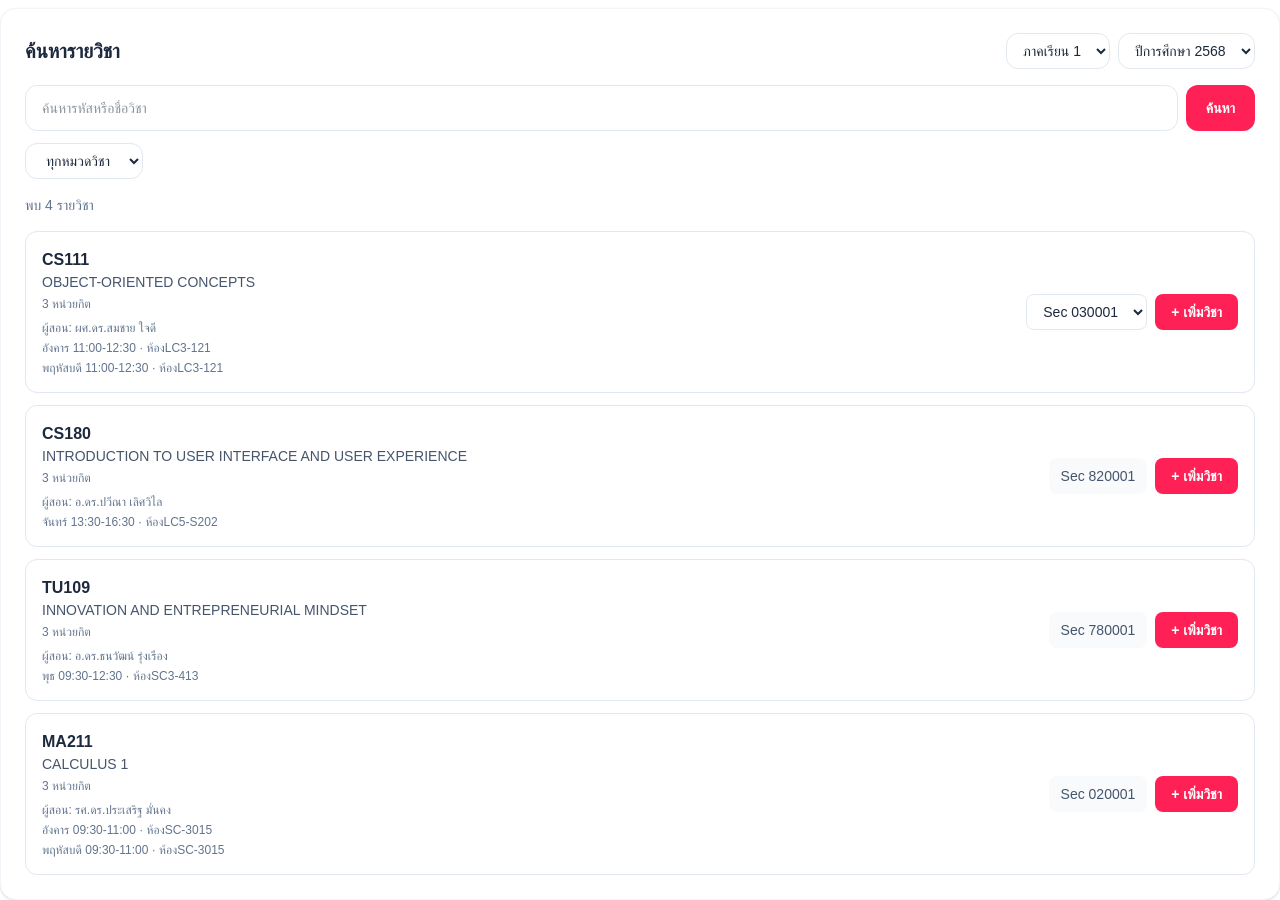
Test case: US1-T10 หน้าตารางเรียนจำลองเชื่อมกับ API › กดเพิ่มวิชา ส่ง sectionId ไป API แล้วแสดงตารางที่ backend ตอบกลับ
The image size is (1280, 900).
(page scrolled)
Expected: the text "พบ 4 รายวิชา" is shown, left=25, top=197, right=94, bottom=213
Click the button "+ เพิ่มวิชา" next to "820001" at (1197, 476), box left=1155, top=458, right=1238, bottom=494
(page scrolled)
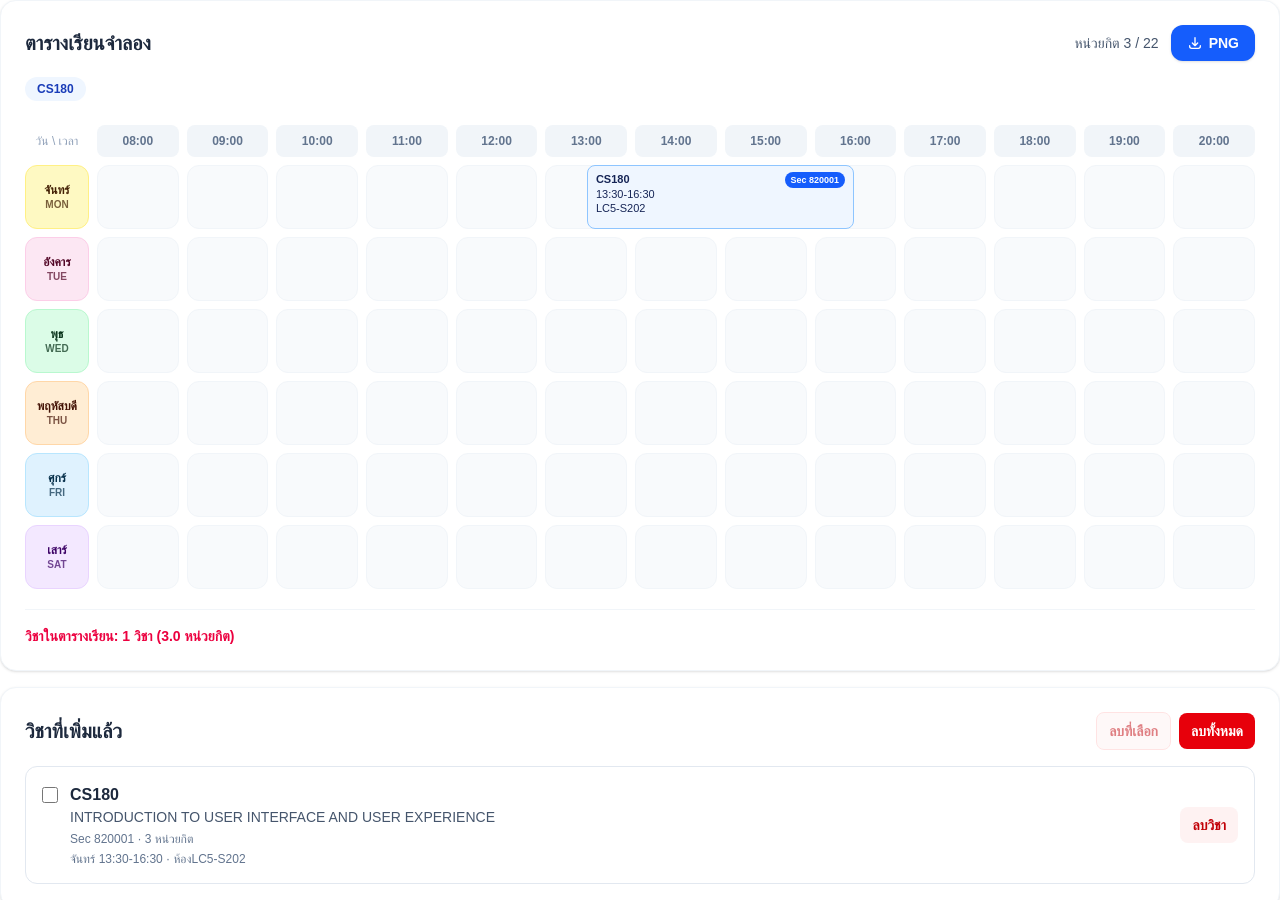
Now the text "หน่วยกิต 3 / 22" is shown, box left=1074, top=35, right=1159, bottom=51
Now the text "CS180" is shown once, box left=596, top=173, right=630, bottom=187
